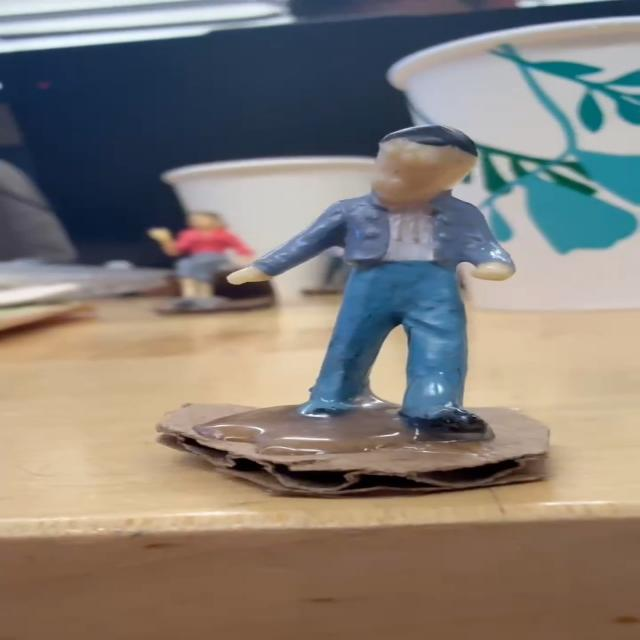Authorized: (194, 96, 536, 433)
